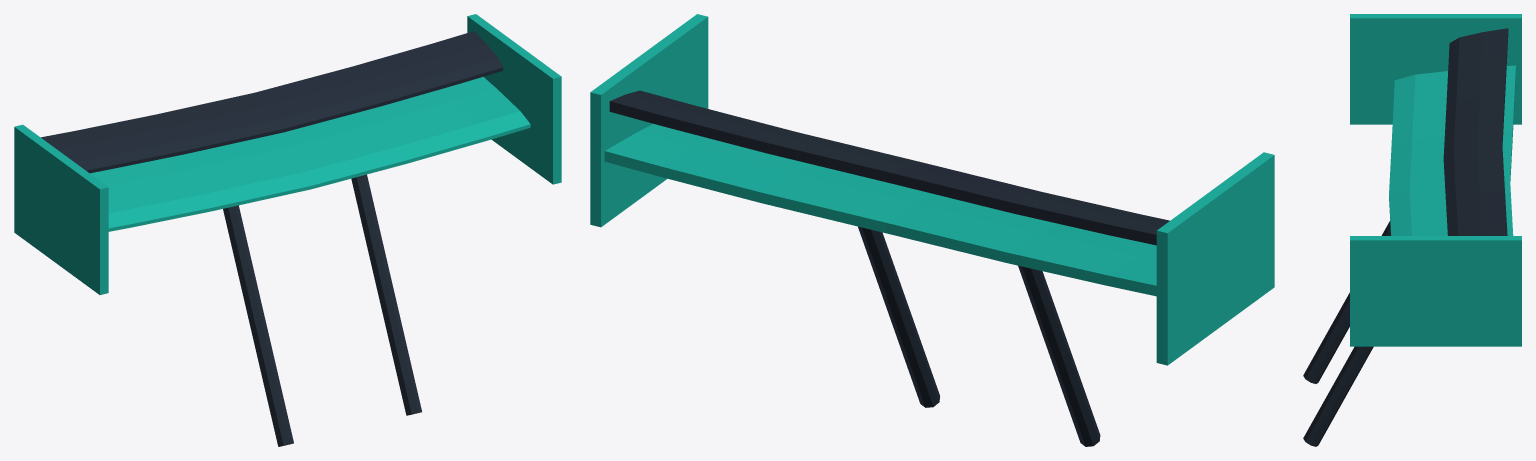
The model's file is arc.glb.
3 renders of one model, left to right at view 1: azimuth 30°, elevation 25°; view 2: azimuth 150°, elevation 25°; view 3: azimuth 270°, elevation 25°, orthographic. The views are drawn at different scales.
Parts seen in each view (by area): view 1: RearWing; view 2: RearWing; view 3: RearWing.
Boxes of the visible parts, x1,y1,x2,y2 form: RearWing: [14, 14, 561, 446]; RearWing: [590, 14, 1274, 446]; RearWing: [1303, 14, 1521, 446].
Bounding box in the file's own units: 1.37 × 0.81 × 0.5596.
